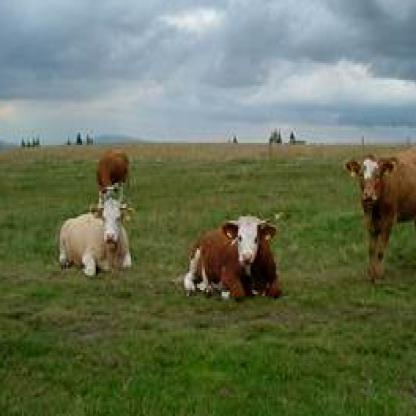cow: (343, 143, 415, 286), (186, 214, 282, 298), (58, 198, 136, 278), (98, 149, 129, 200)
